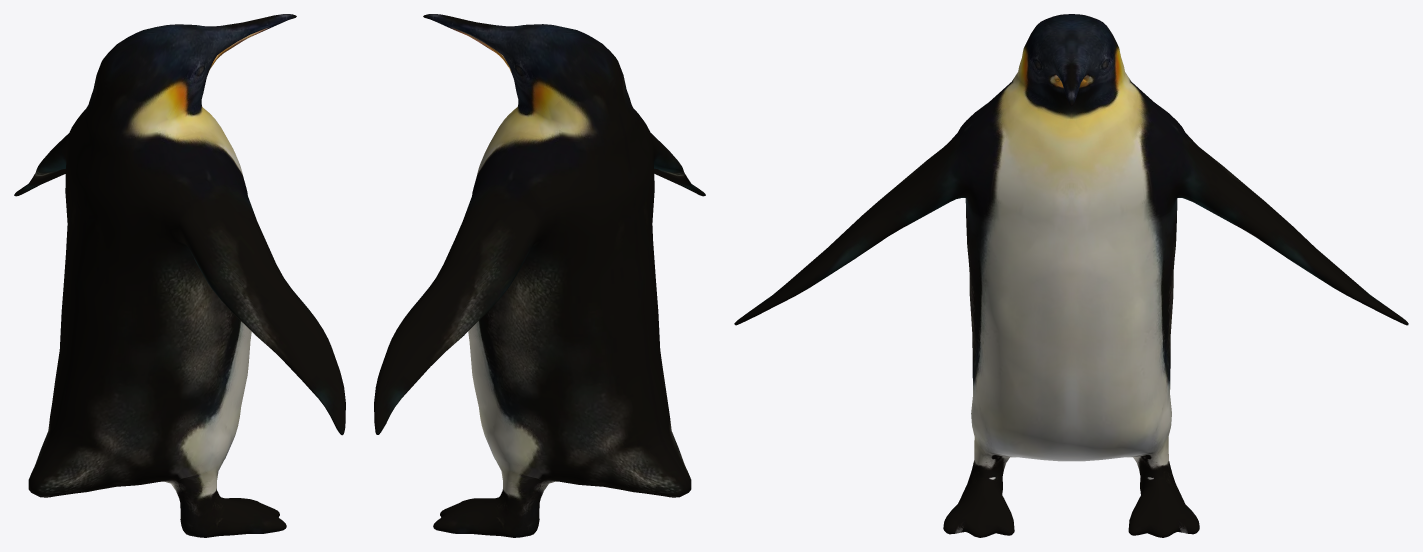
File: penguin.glb
3 renders of one model, left to right at view 1: azimuth 30°, elevation 25°; view 2: azimuth 150°, elevation 25°; view 3: azimuth 270°, elevation 25°, orthographic. The views are drawn at different scales.
Parts seen in each view (by area): view 1: penguin; view 2: penguin; view 3: penguin.
Boxes of the visible parts, <box> form: penguin: <box>14,14,345,537</box>; penguin: <box>374,14,705,537</box>; penguin: <box>734,14,1408,537</box>.
Size of the model in its own units: 0.8844 by 1.5 by 1.89.
Materials: 1 (1 with a texture image).
